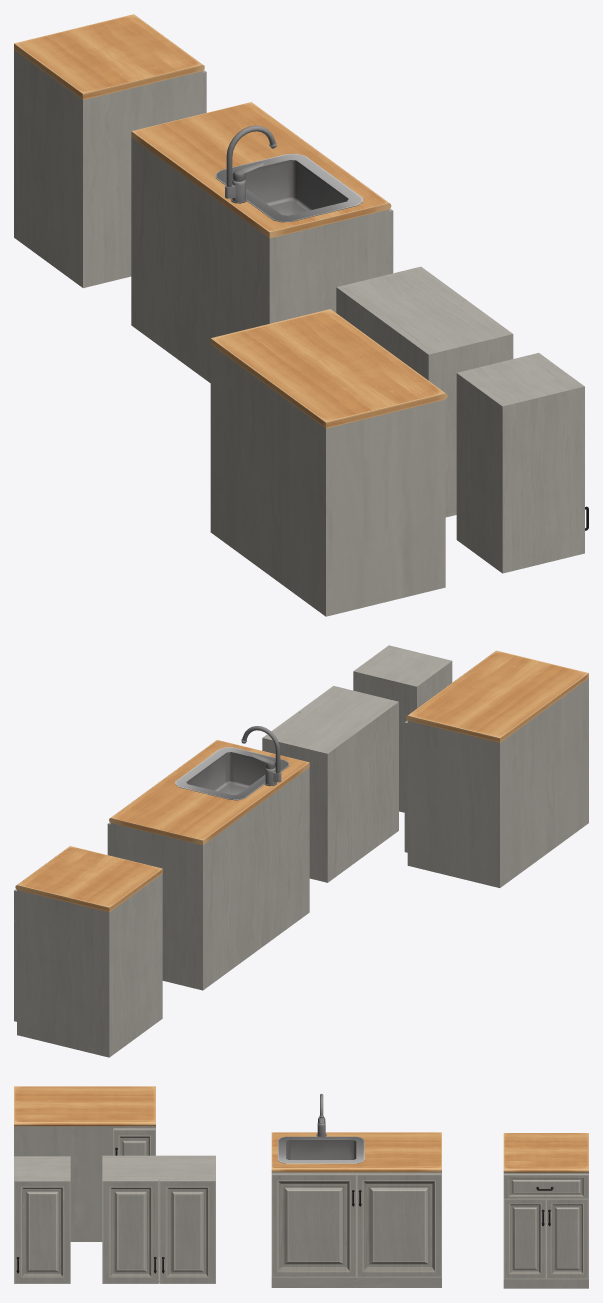
The model's file is KitchenCabinets.fbx.
3 views of the same model, one above another, from view 1: azimuth 30°, elevation 25°; view 2: azimuth 150°, elevation 25°; view 3: azimuth 270°, elevation 25° (orthographic). The views are drawn at different scales.
Visible parts, largest first — view 1: CornerCabinet, SinkCabinet, DrawertBase, SmallCabinet, CabinetUp, SmallCabinetDoor; view 2: CornerCabinet, SinkCabinet, DrawertBase, CabinetUp, SmallCabinet; view 3: CornerCabinet, SinkCabinet, SinkDoorLeft, SinkDoorRight, CabinetUpDoorRight, CabinetUpDoorLeft, SmallCabinetDoor, DrawertBase, CabinetDoorLeft, CabinetDoorRight, CabinetUp, Topdrawer (+1 smaller).
Boxes of the visible parts, x1,y1,x2,y2 form: CornerCabinet: (210, 309, 447, 616); SinkCabinet: (131, 102, 391, 382); DrawertBase: (14, 14, 204, 288); SmallCabinet: (456, 354, 579, 573); CabinetUp: (336, 268, 508, 517); SmallCabinetDoor: (534, 353, 588, 554); CornerCabinet: (404, 650, 588, 887); SinkCabinet: (109, 726, 309, 990); DrawertBase: (15, 846, 162, 1057); CabinetUp: (266, 686, 398, 882); SmallCabinet: (357, 646, 452, 812); CornerCabinet: (14, 1086, 155, 1241); SinkCabinet: (271, 1093, 441, 1287); SinkDoorLeft: (271, 1173, 356, 1277); SinkDoorRight: (356, 1173, 441, 1277); CabinetUpDoorRight: (159, 1179, 215, 1283); CabinetUpDoorLeft: (102, 1179, 158, 1283); SmallCabinetDoor: (14, 1179, 70, 1283); DrawertBase: (503, 1133, 588, 1288); CabinetDoorLeft: (503, 1199, 546, 1279); CabinetDoorRight: (546, 1199, 588, 1279); CabinetUp: (102, 1155, 215, 1282); Topdrawer: (503, 1173, 588, 1198).
Bounding box in the file's own units: 143 × 127 × 405.
1 material, 1 textured.
